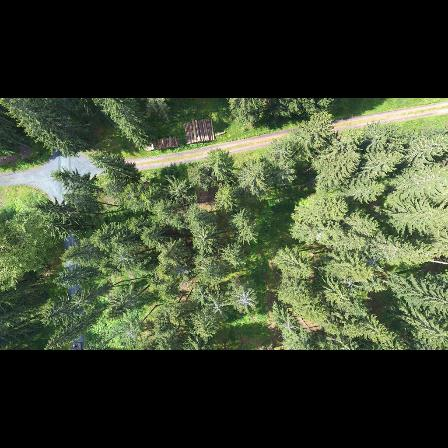Sick: (231, 283, 260, 312), (202, 292, 231, 318)
